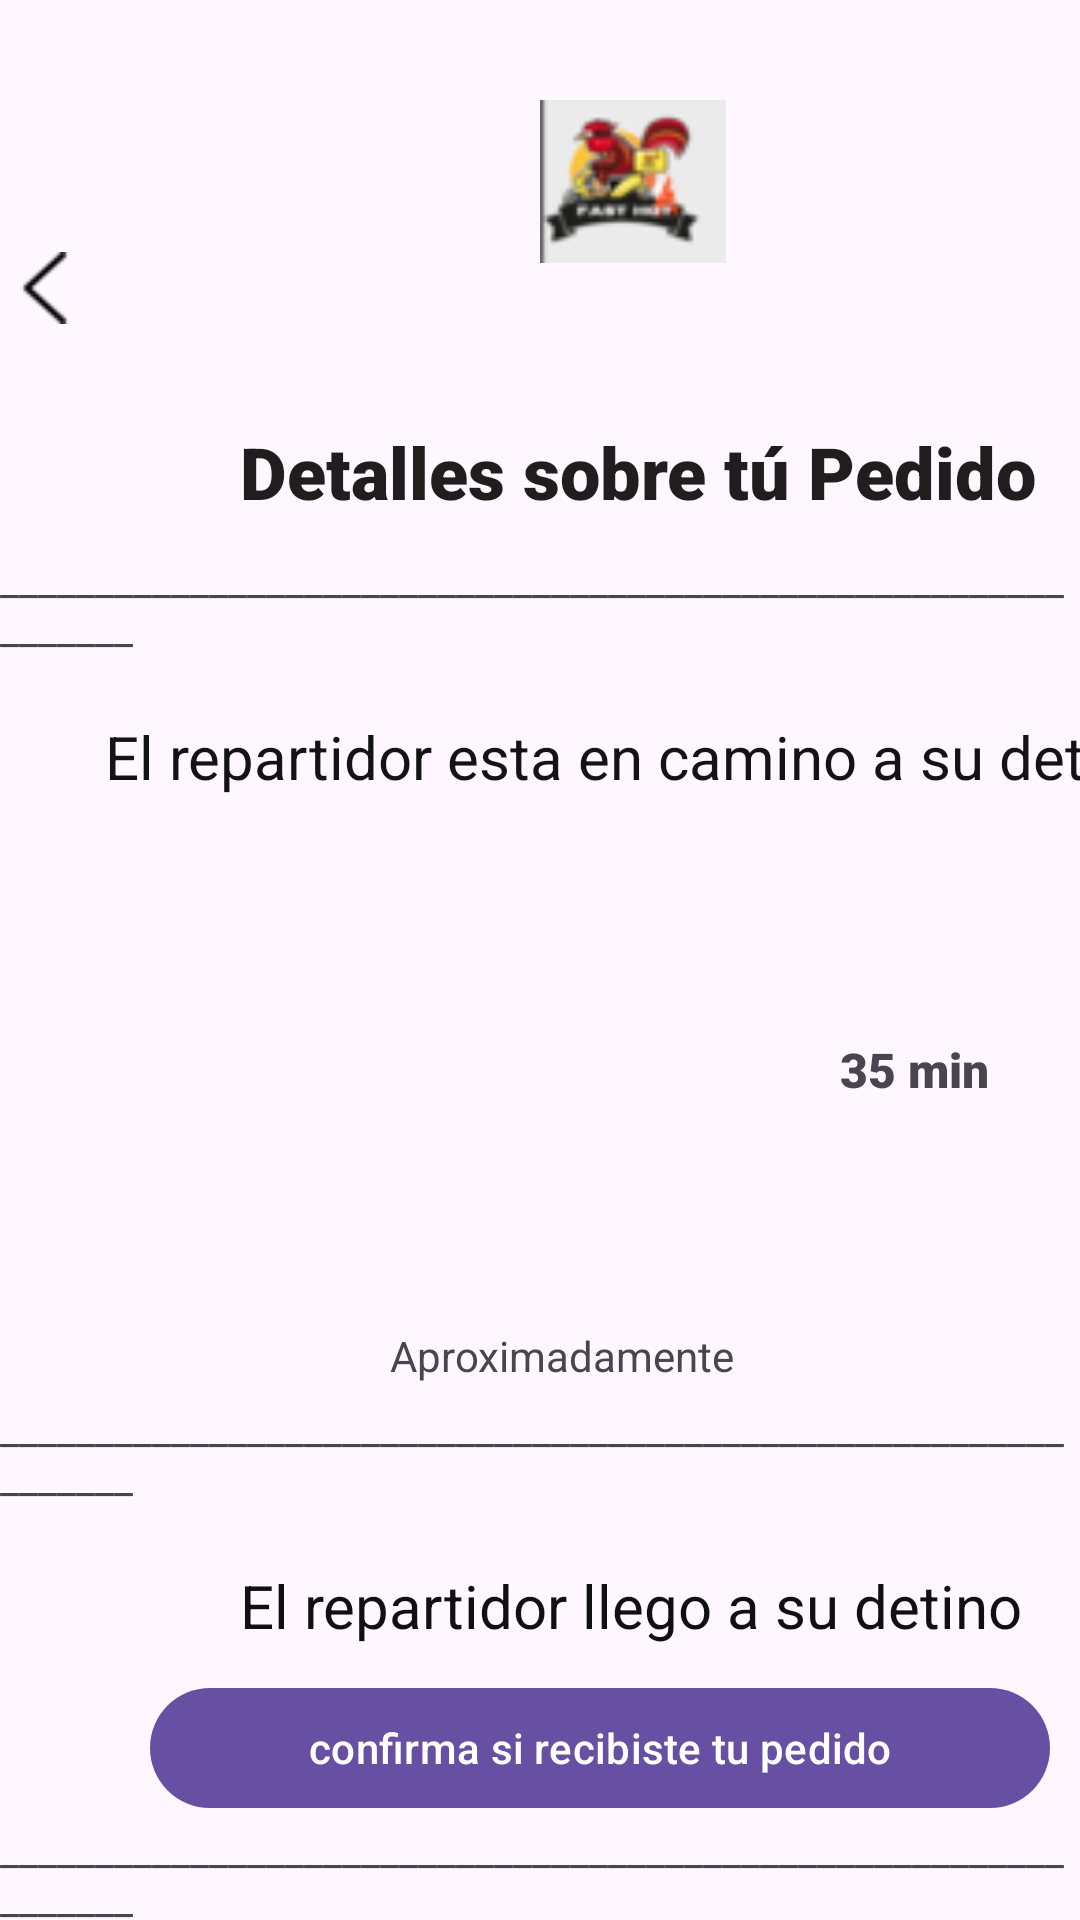

Where to tap for icons on this 1080x1920 app screen, as (x=x, y=y):
Volver: (x=45, y=288)
